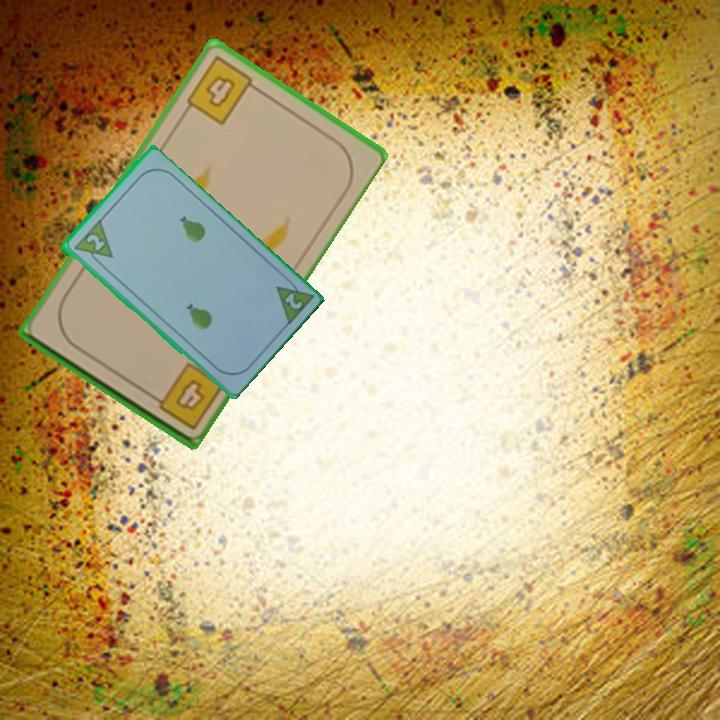2p: (272, 272, 315, 329), (70, 217, 116, 270)
4b: (182, 52, 263, 128), (144, 358, 226, 433)
